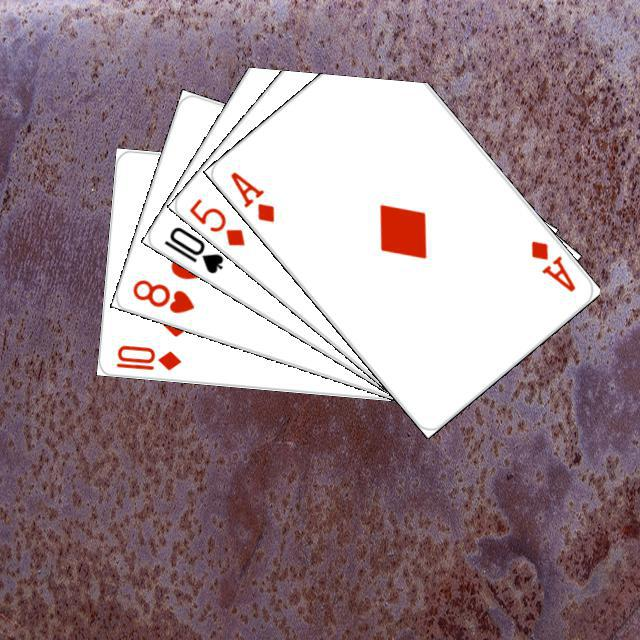10d: (111, 340, 183, 372)
10s: (159, 221, 226, 276)
5d: (184, 193, 247, 248)
8h: (127, 274, 196, 315)
Ad: (525, 236, 578, 294), (225, 166, 277, 224)
